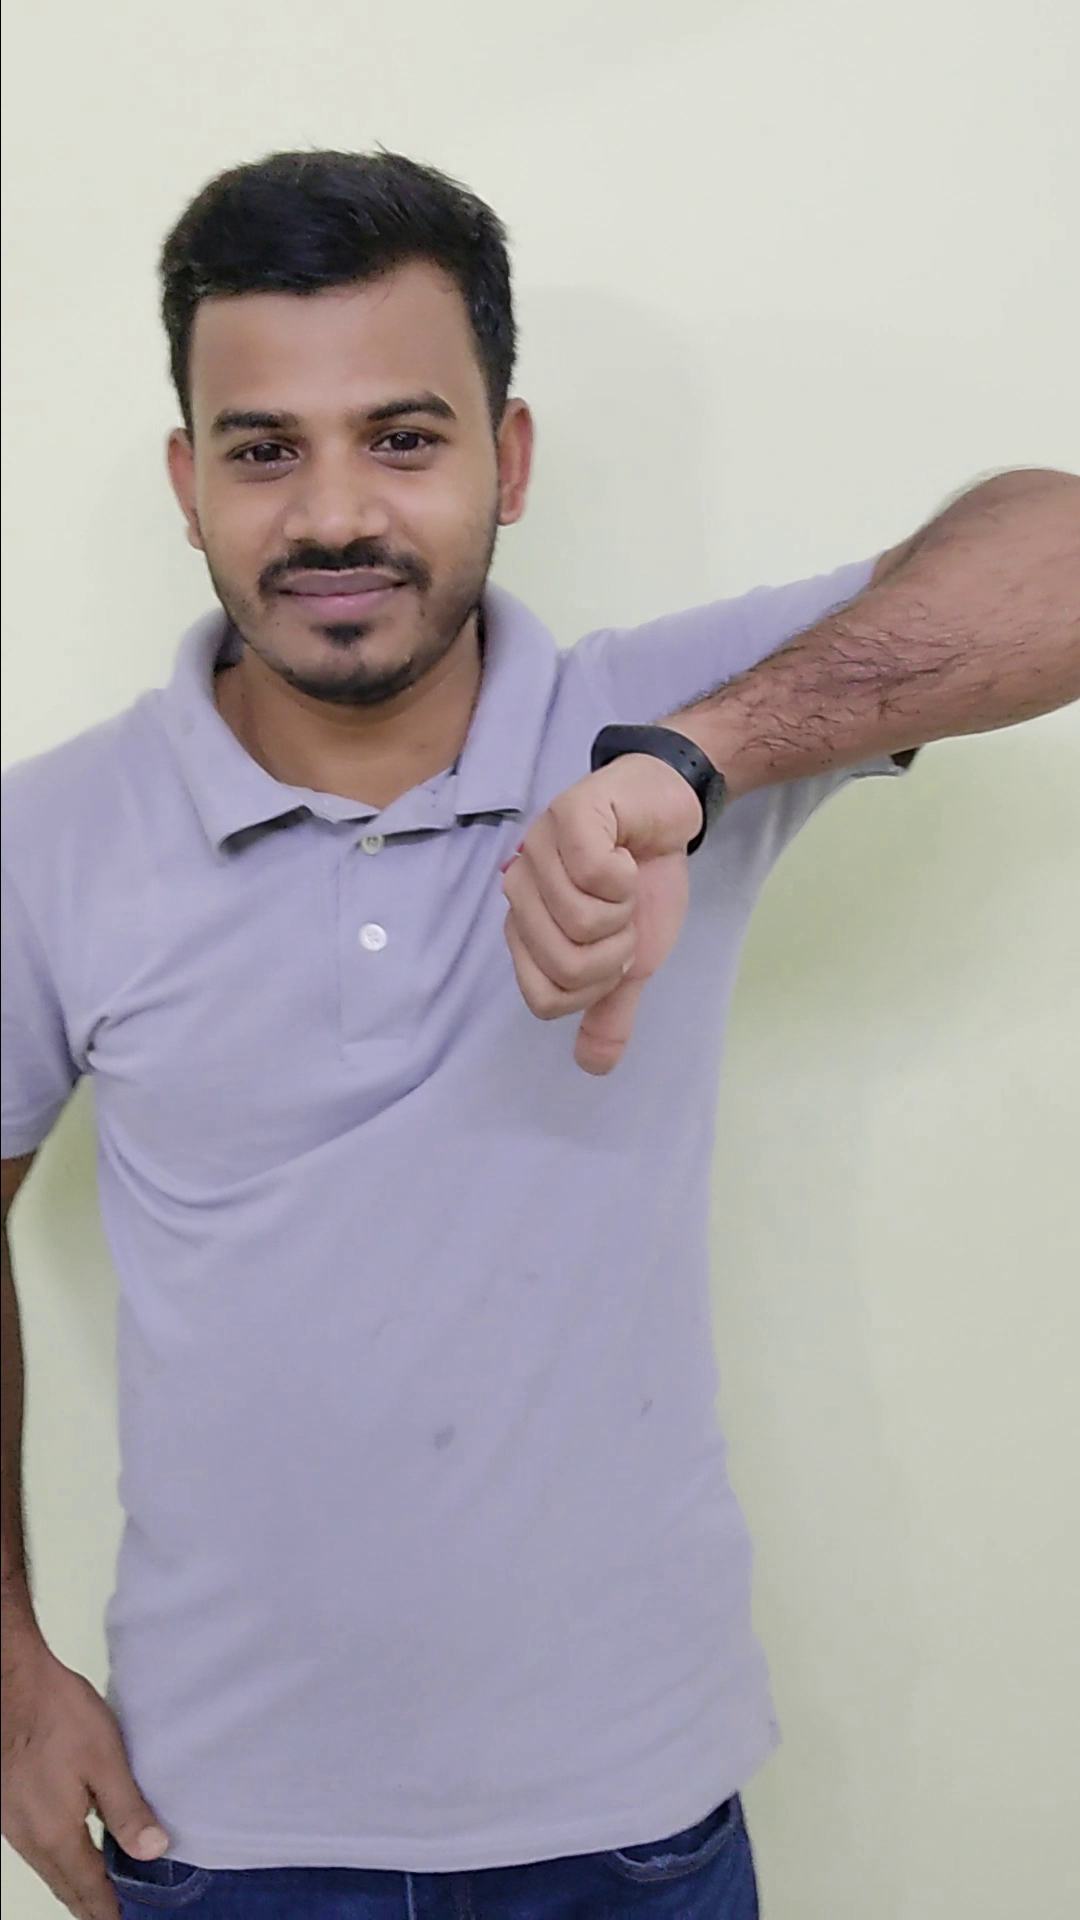Dislike: (484, 713, 712, 1088)
None: (0, 1623, 181, 1920)
